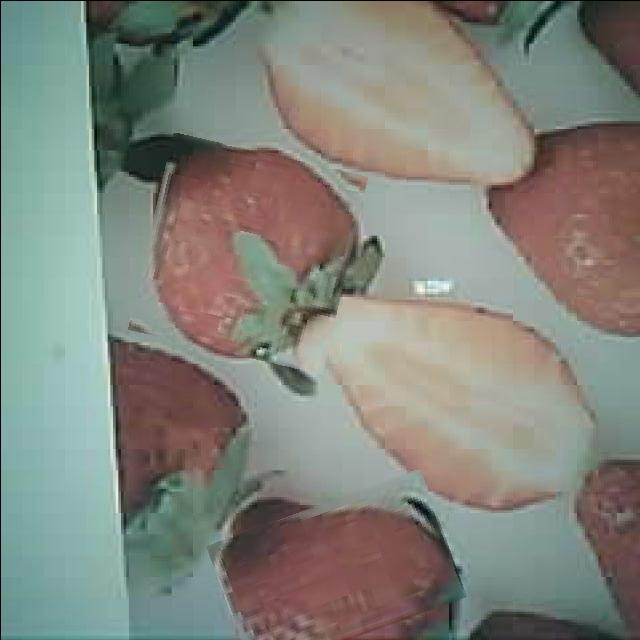strawberry: (138, 142, 358, 364), (214, 486, 459, 640)
